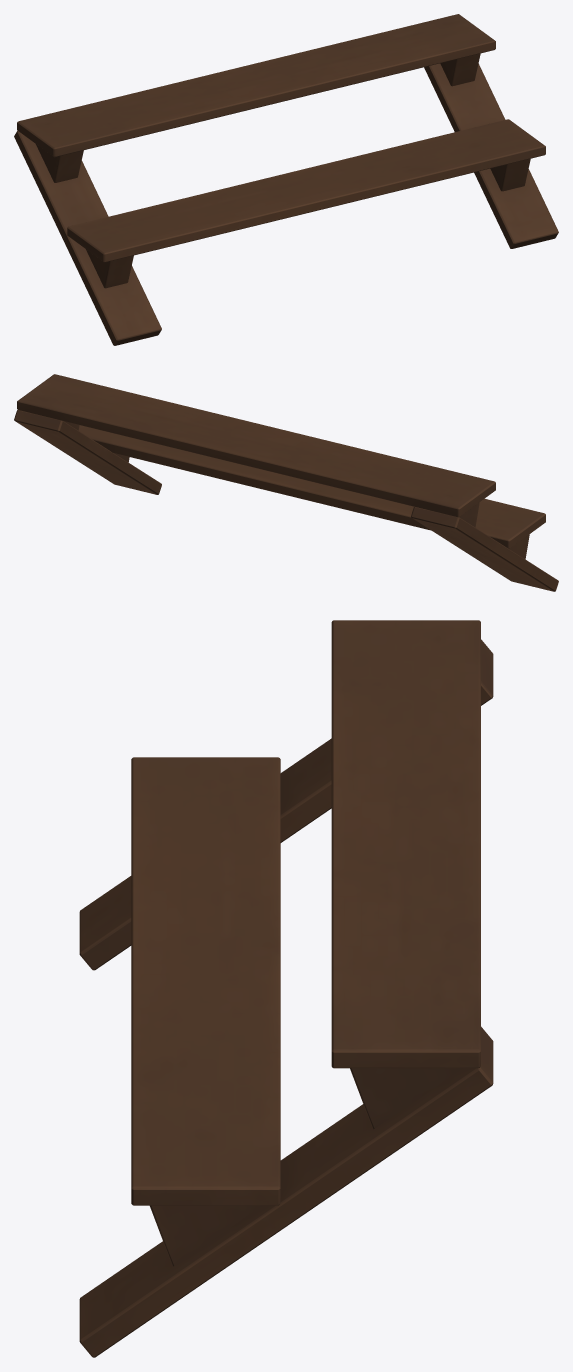
Rendered from BW_Cottage01_EntranceSteps.fbx.
The picture shows the model from 3 angles, top to bottom: view 1: azimuth 30°, elevation 25°; view 2: azimuth 150°, elevation 25°; view 3: azimuth 270°, elevation 25°; orthographic projection. The views are drawn at different scales.
Parts seen in each view (by area): view 1: BW_Cottage01_EntranceSteps; view 2: BW_Cottage01_EntranceSteps; view 3: BW_Cottage01_EntranceSteps.
Boxes of the visible parts, bbox=[...] form: BW_Cottage01_EntranceSteps: bbox=[14, 14, 558, 345]; BW_Cottage01_EntranceSteps: bbox=[14, 374, 558, 591]; BW_Cottage01_EntranceSteps: bbox=[79, 620, 493, 1357].
Size of the model in its own units: 1.55 by 0.5158 by 0.6269.
